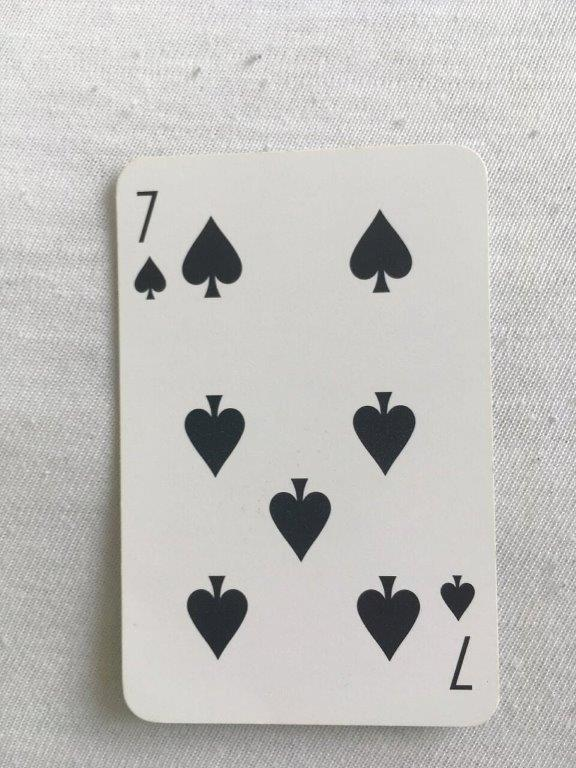7S: (111, 141, 506, 732)
